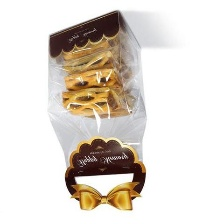snack: (39, 3, 153, 217)
